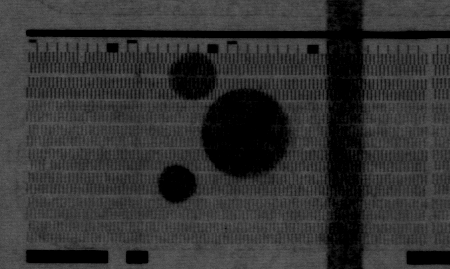Broken hole: (40, 159, 54, 172), (76, 50, 88, 63)
